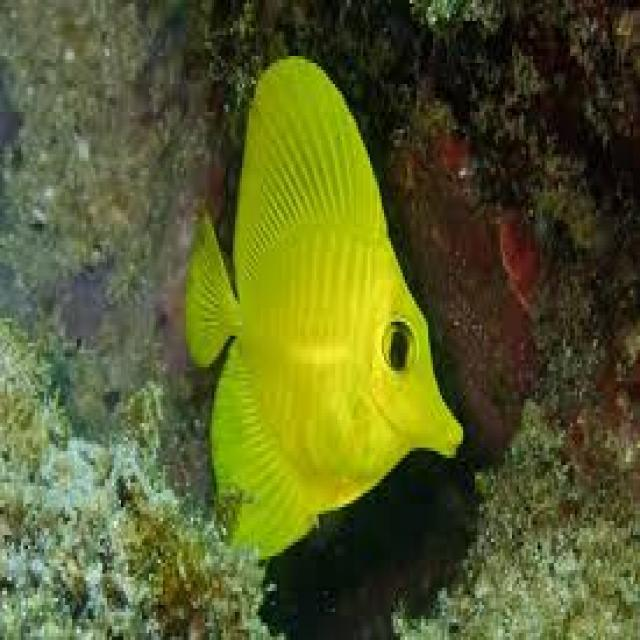YellowTang: (141, 48, 465, 552)
